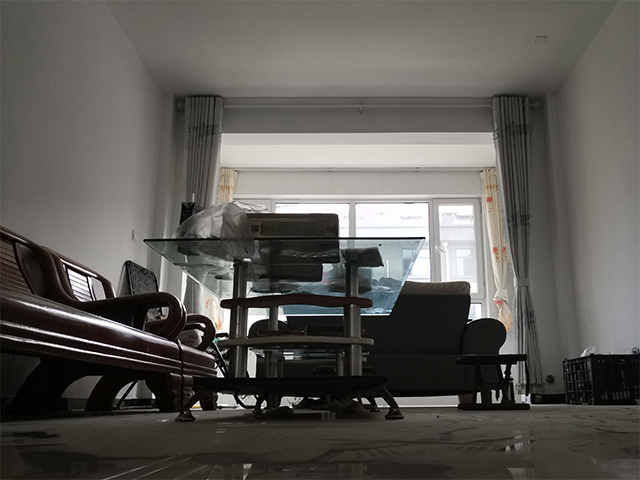curtain: (488, 93, 549, 397), (181, 87, 221, 205), (479, 168, 508, 319)
sofa: (245, 277, 510, 406)
stool: (1, 222, 180, 415), (453, 353, 531, 411)
table: (141, 234, 428, 423)
